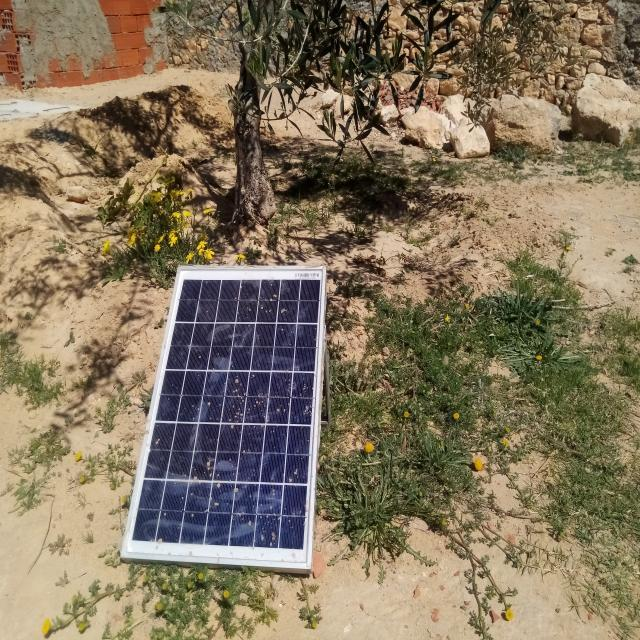faulty: (123, 265, 325, 567)
